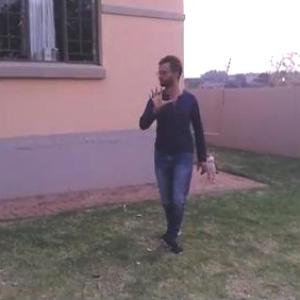follow_hand: (146, 83, 171, 112)
